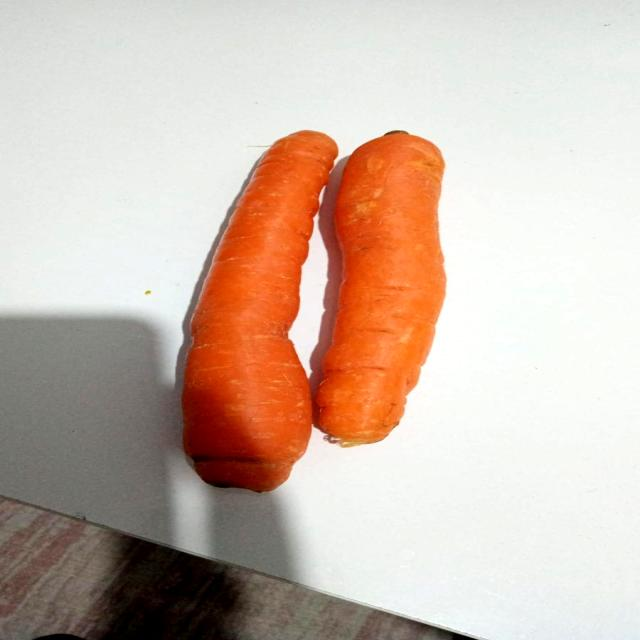carrot: (162, 111, 359, 502), (295, 120, 469, 450)
